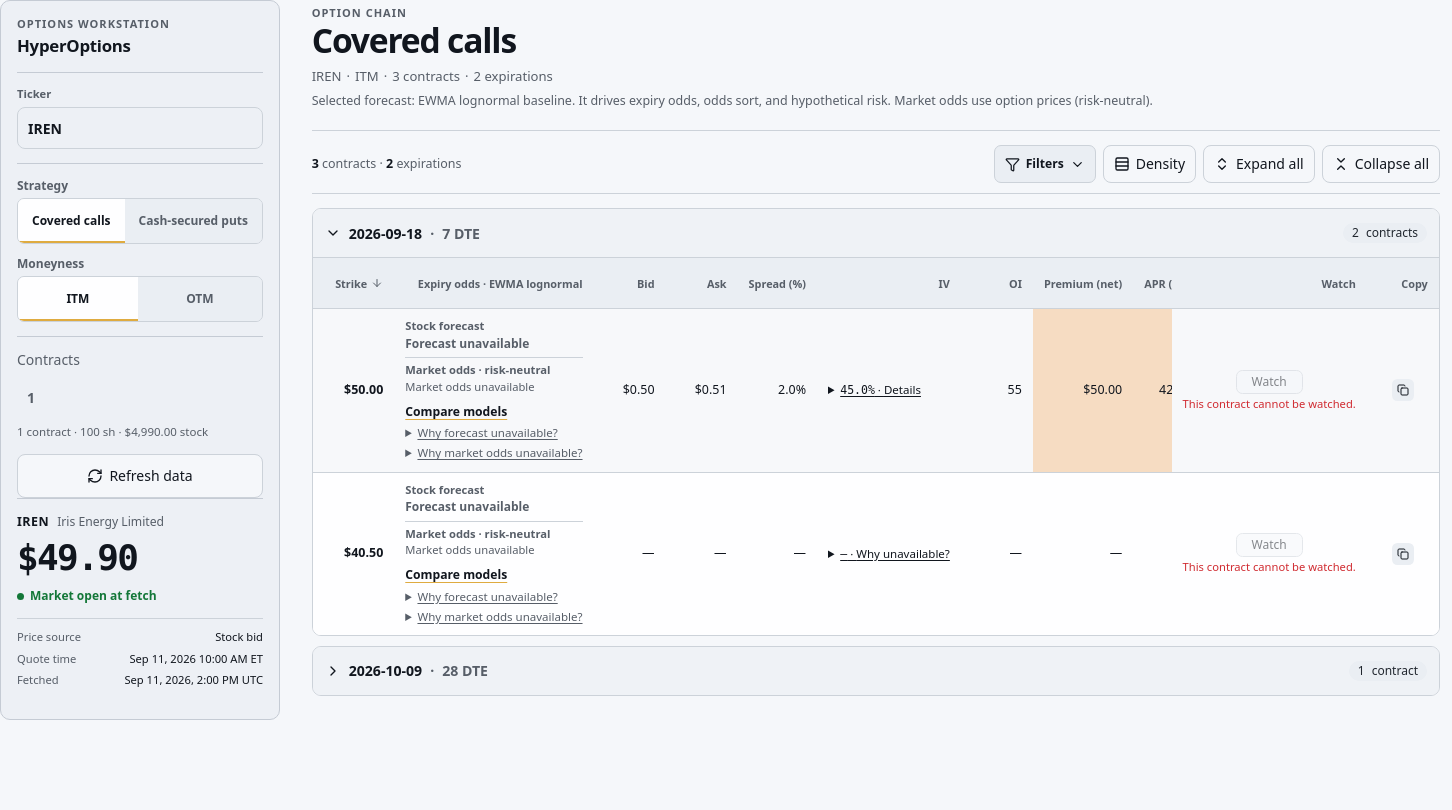
Scenario: chain interactions › shows clipboard denial and clears it after a successful retry
Click the button named "Copy row IREN" at (1403, 390), box [1391,378,1415,402]
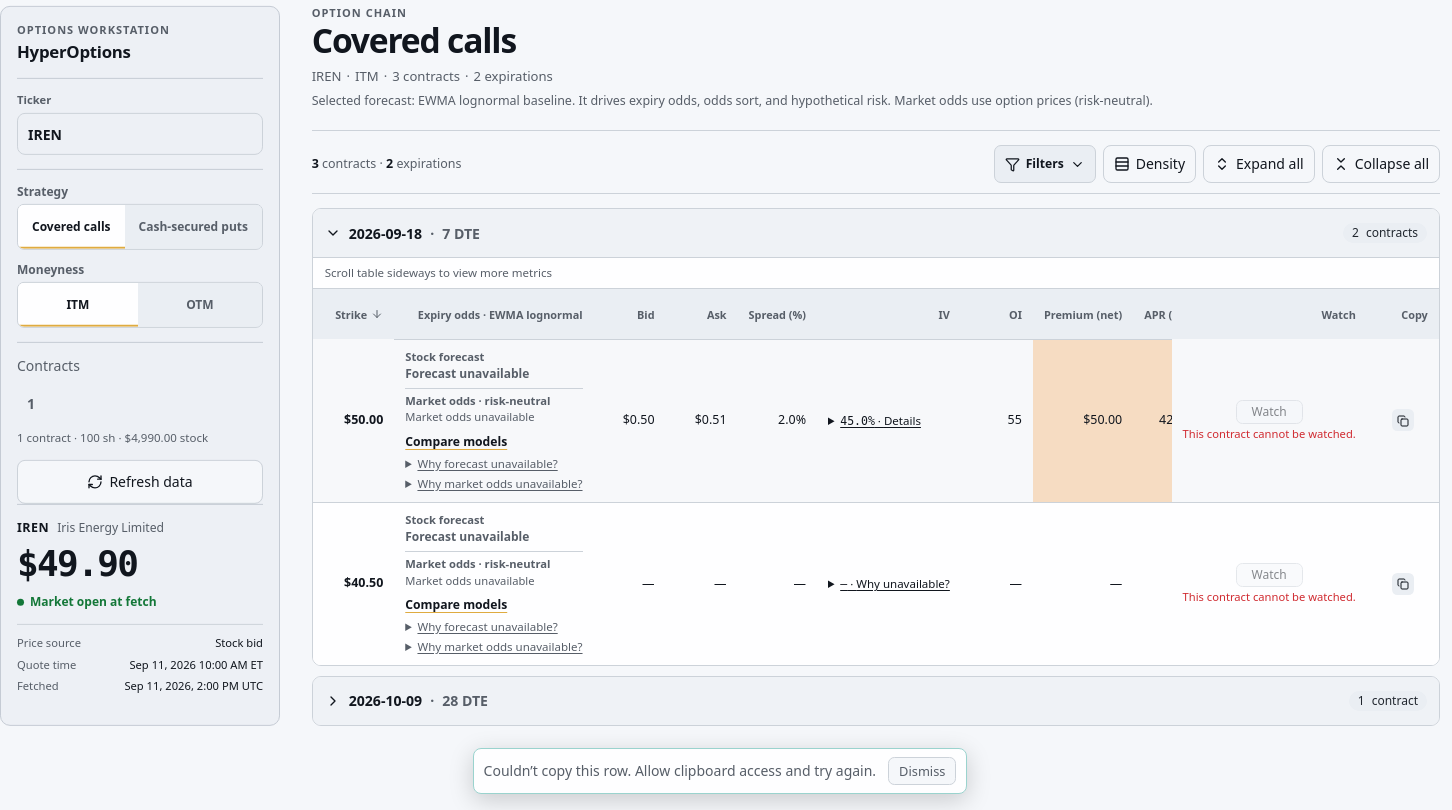
expect the message shows "Allow clipboard access": met, box [484,761,876,780]
Click the button named "Copy row IREN" at (1403, 421), box [1391,409,1415,433]
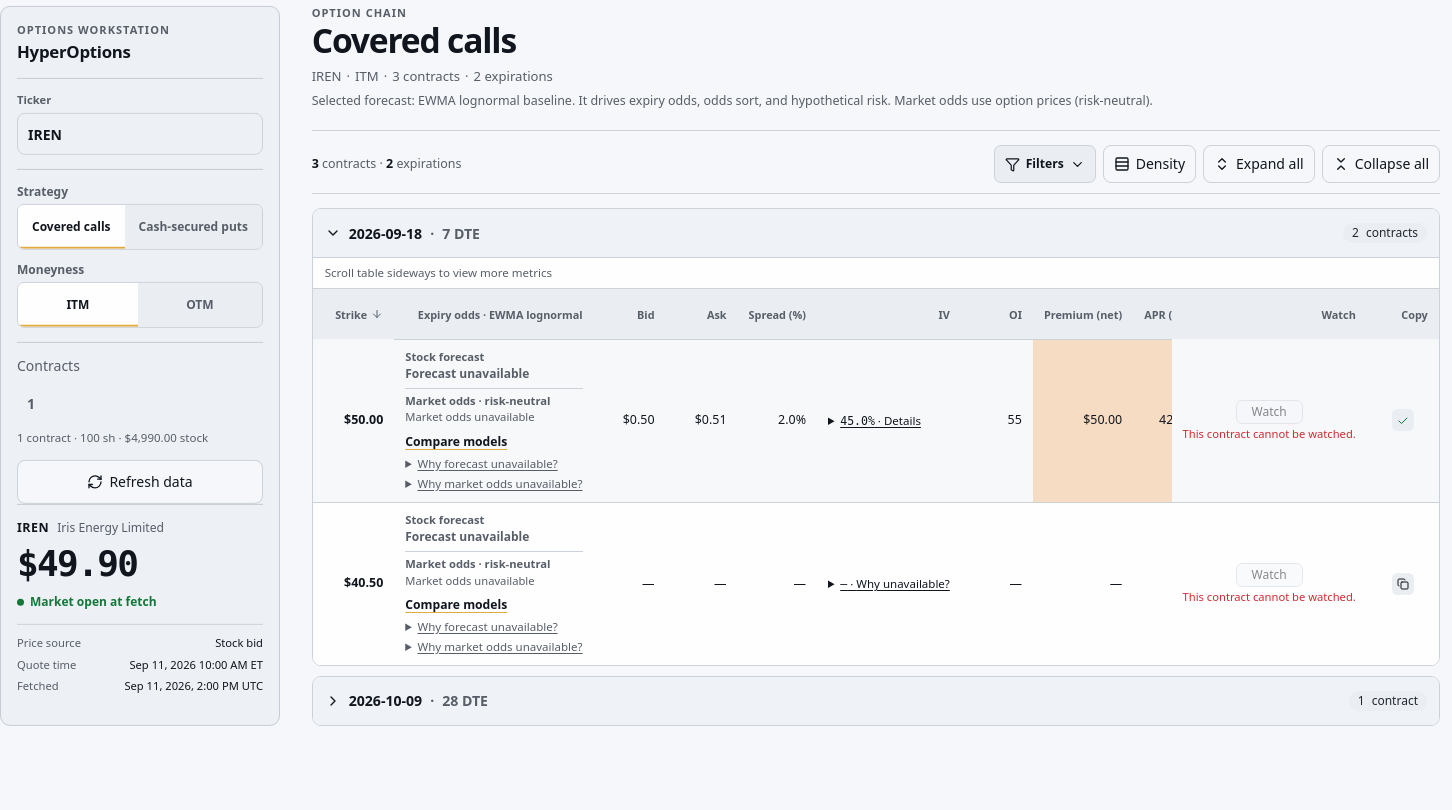
expect the message "Couldn’t copy this row. Allow clipboard access and try again. Dismiss" is gone: met
